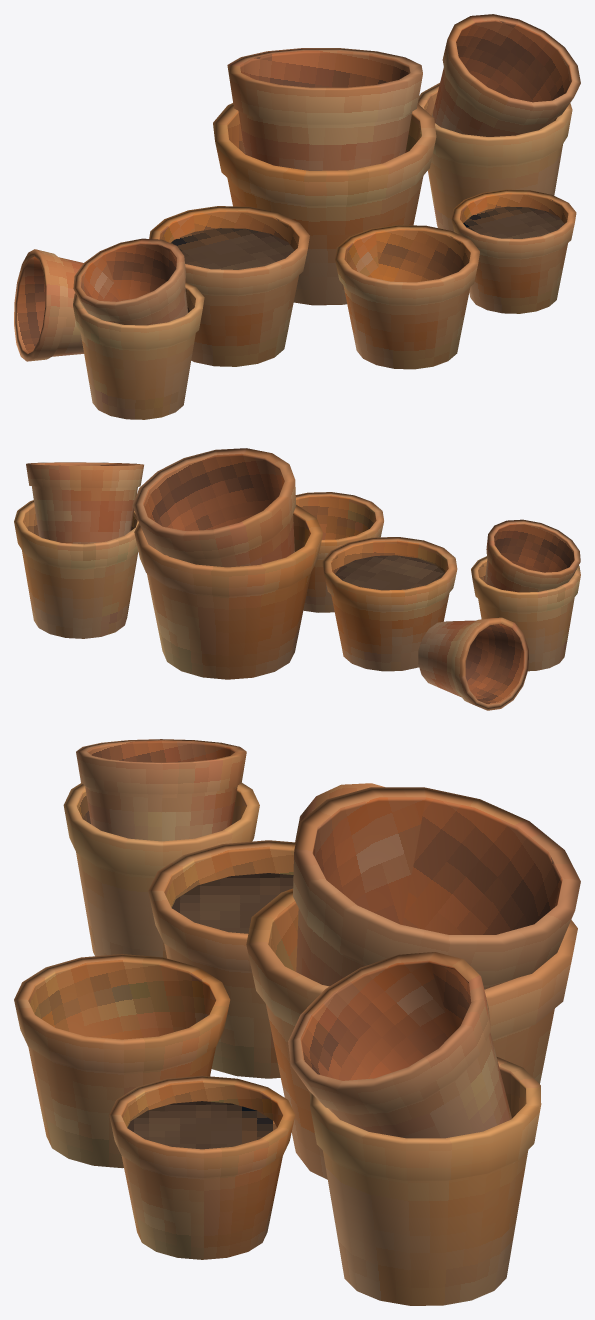
The model's file is objects_un_t01flowerpots12.gltf.
The picture shows the model from 3 angles, top to bottom: view 1: azimuth 30°, elevation 25°; view 2: azimuth 150°, elevation 25°; view 3: azimuth 270°, elevation 25°; orthographic projection. The views are drawn at different scales.
Parts seen in each view (by area): view 1: objects_un_t01flowerpots12_mesh_shape:objects_un_t01flowerpo (×3); view 2: objects_un_t01flowerpots12_mesh_shape:objects_un_t01flowerpo (×3); view 3: objects_un_t01flowerpots12_mesh_shape:objects_un_t01flowerpo (×3).
Boxes of the visible parts, x1=… form: objects_un_t01flowerpots12_mesh_shape:objects_un_t01flowerpo (×3): x1=14, y1=14, x2=580, y2=419; objects_un_t01flowerpots12_mesh_shape:objects_un_t01flowerpo (×3): x1=14, y1=448, x2=580, y2=710; objects_un_t01flowerpots12_mesh_shape:objects_un_t01flowerpo (×3): x1=14, y1=739, x2=580, y2=1305.
Size of what is drawn, in the model's own units: 1.06 by 0.3808 by 0.6193.
3 materials, 3 textured.
